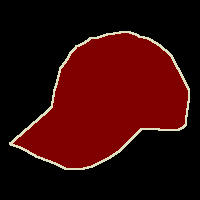hat: (10, 32, 189, 169)
